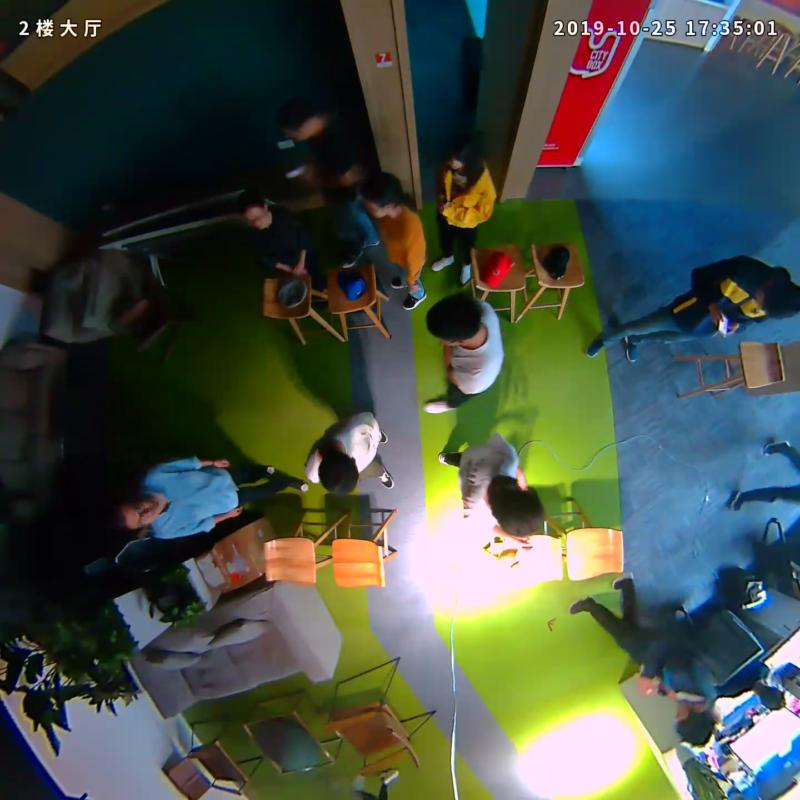head: (426, 295, 483, 345), (493, 490, 543, 538), (751, 275, 800, 320), (280, 97, 326, 144), (107, 493, 162, 529), (363, 173, 404, 219), (319, 449, 360, 495), (446, 131, 484, 172), (238, 192, 272, 230)
